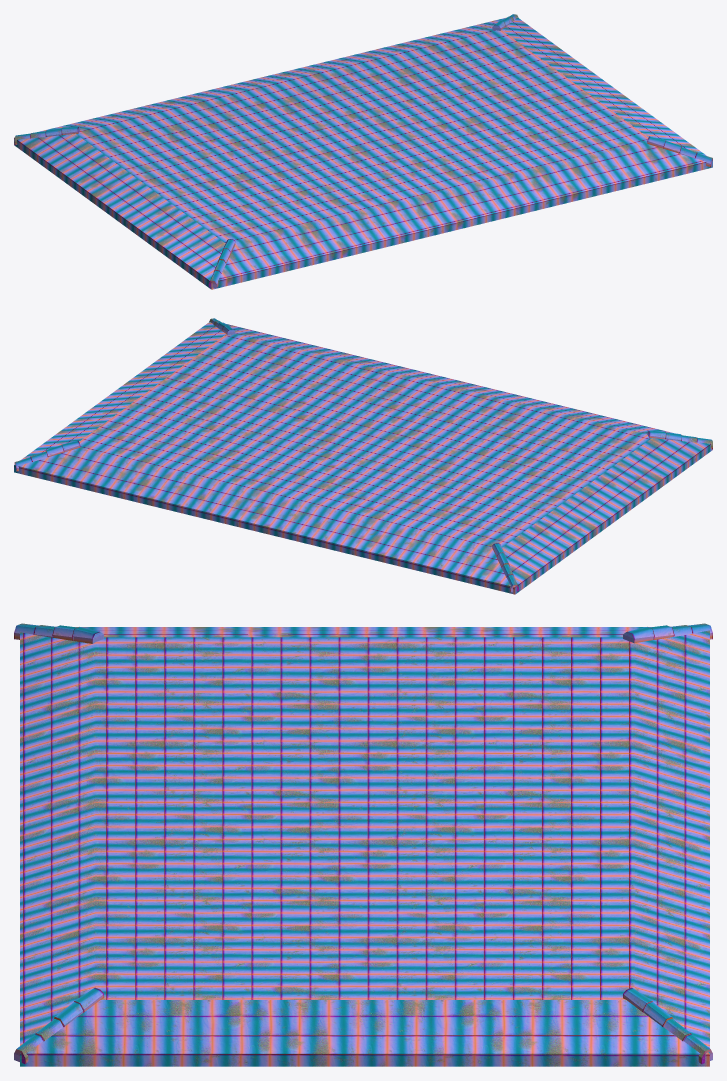
File: TopRoof.fbx
3 renders of one model, top to bottom at view 1: azimuth 30°, elevation 25°; view 2: azimuth 150°, elevation 25°; view 3: azimuth 270°, elevation 25°, orthographic. The views are drawn at different scales.
Visible parts, largest first — view 1: TopRoof; view 2: TopRoof; view 3: TopRoof.
Boxes of the visible parts, <box> form: TopRoof: <box>14,14,712,289</box>; TopRoof: <box>14,318,712,594</box>; TopRoof: <box>14,623,712,1066</box>.
Bounding box in the file's own units: 1414 × 64.86 × 973.
Materials: 1 (1 with a texture image).
